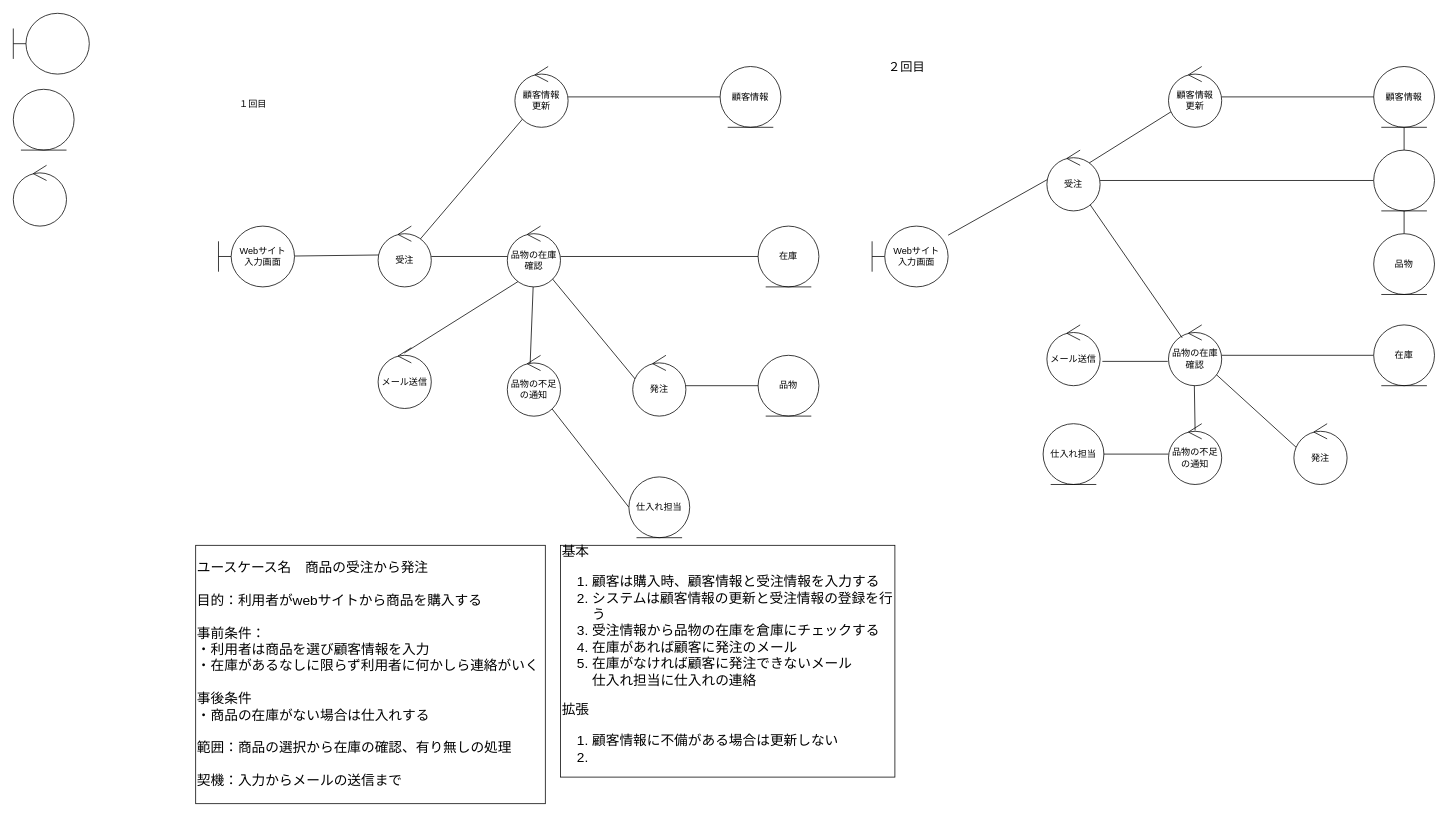
This 1448x817 diagram has some shape labels left out. Each missing label, with the box of its shape:
Boundary Object: (13, 13, 89, 74)
Control Object: (13, 165, 66, 226)
Entity Object: (13, 89, 74, 150)
受注明細: (1373, 149, 1434, 211)
